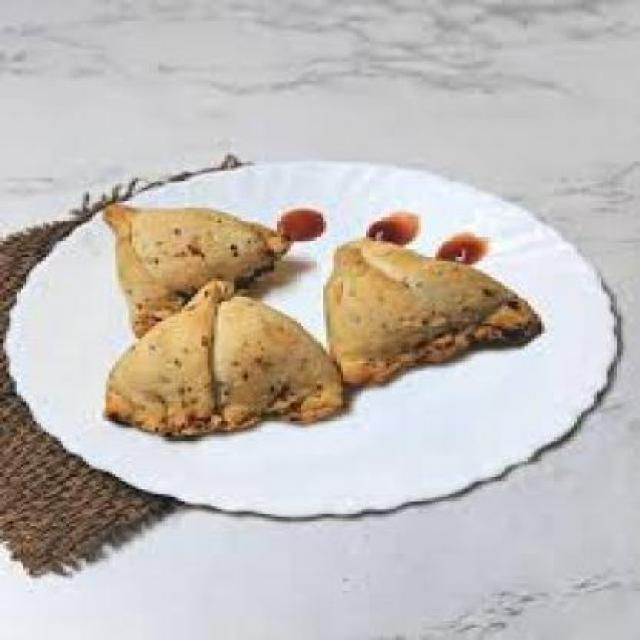samosa: (108, 278, 348, 436), (322, 240, 543, 385), (105, 203, 289, 340)
